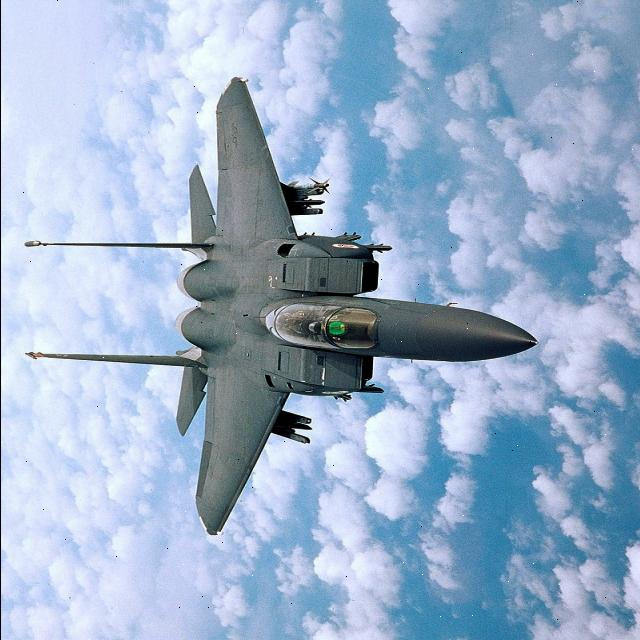F15: (7, 57, 564, 550)
